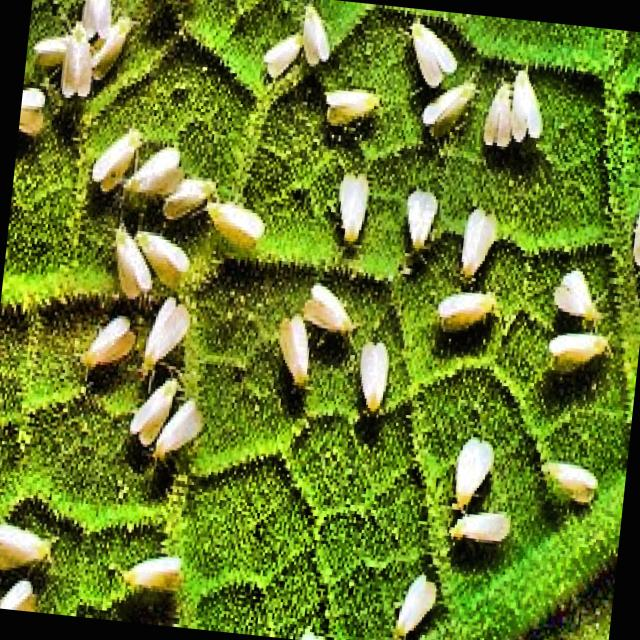whitefly: (144, 297, 190, 369), (132, 378, 179, 444), (94, 128, 142, 192), (136, 231, 189, 288), (412, 20, 457, 85), (125, 147, 184, 196), (423, 82, 475, 137), (155, 398, 202, 458), (209, 200, 264, 249), (304, 282, 355, 333), (116, 226, 153, 296), (456, 439, 494, 507), (397, 575, 436, 640), (86, 316, 135, 367), (551, 332, 609, 374), (92, 16, 131, 77), (461, 209, 496, 275), (164, 176, 217, 219), (62, 24, 93, 96), (555, 270, 599, 320), (0, 524, 50, 568), (280, 316, 310, 389), (543, 462, 597, 502), (440, 292, 496, 330), (126, 556, 181, 593), (361, 342, 389, 414), (514, 70, 542, 139), (327, 89, 379, 126), (451, 511, 510, 543), (341, 175, 369, 241), (408, 191, 438, 248), (485, 83, 511, 146), (265, 34, 302, 77), (304, 6, 331, 64), (21, 87, 45, 136), (37, 34, 70, 69), (83, 0, 112, 37), (1, 580, 37, 609), (634, 216, 640, 265)
